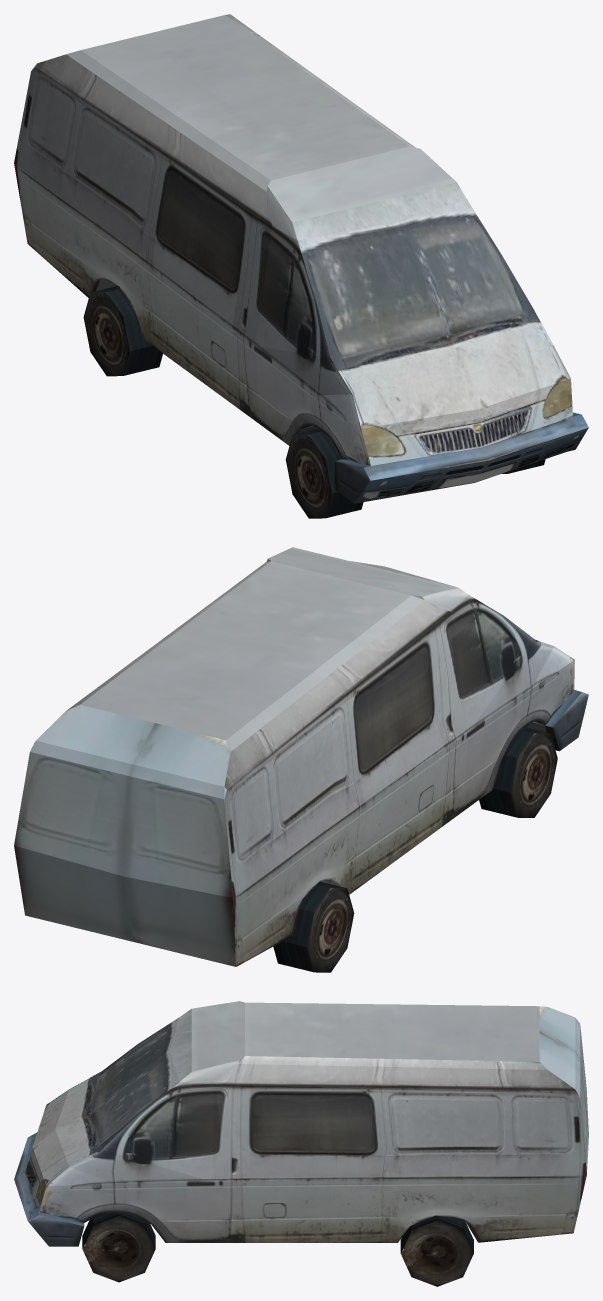
File: gazel.fbx
3 renders of one model, top to bottom at view 1: azimuth 30°, elevation 25°; view 2: azimuth 150°, elevation 25°; view 3: azimuth 270°, elevation 25°, orthographic. The views are drawn at different scales.
Visible parts, largest first — view 1: Gaxel 1 texture, Gaxel 1 texture.002, Cylinder.003, Cylinder.001; view 2: Gaxel 1 texture, Gaxel 1 texture.002, Cylinder.003, Cylinder.001; view 3: Gaxel 1 texture, Gaxel 1 texture.002, Cylinder.002, Cylinder.
Boxes of the visible parts, x1,y1,x2,y2 form: Gaxel 1 texture: (14,14,588,503); Gaxel 1 texture.002: (155,164,246,293); Cylinder.003: (83,286,162,376); Cylinder.001: (285,429,363,518); Gaxel 1 texture: (14,547,588,966); Gaxel 1 texture.002: (352,641,434,772); Cylinder.003: (273,881,354,972); Cylinder.001: (479,727,557,817); Gaxel 1 texture: (14,1001,588,1246); Gaxel 1 texture.002: (249,1093,377,1151); Cylinder.002: (400,1215,473,1286); Cylinder: (82,1213,155,1282).
Size of the model in its own units: 440 by 521 by 1253.
